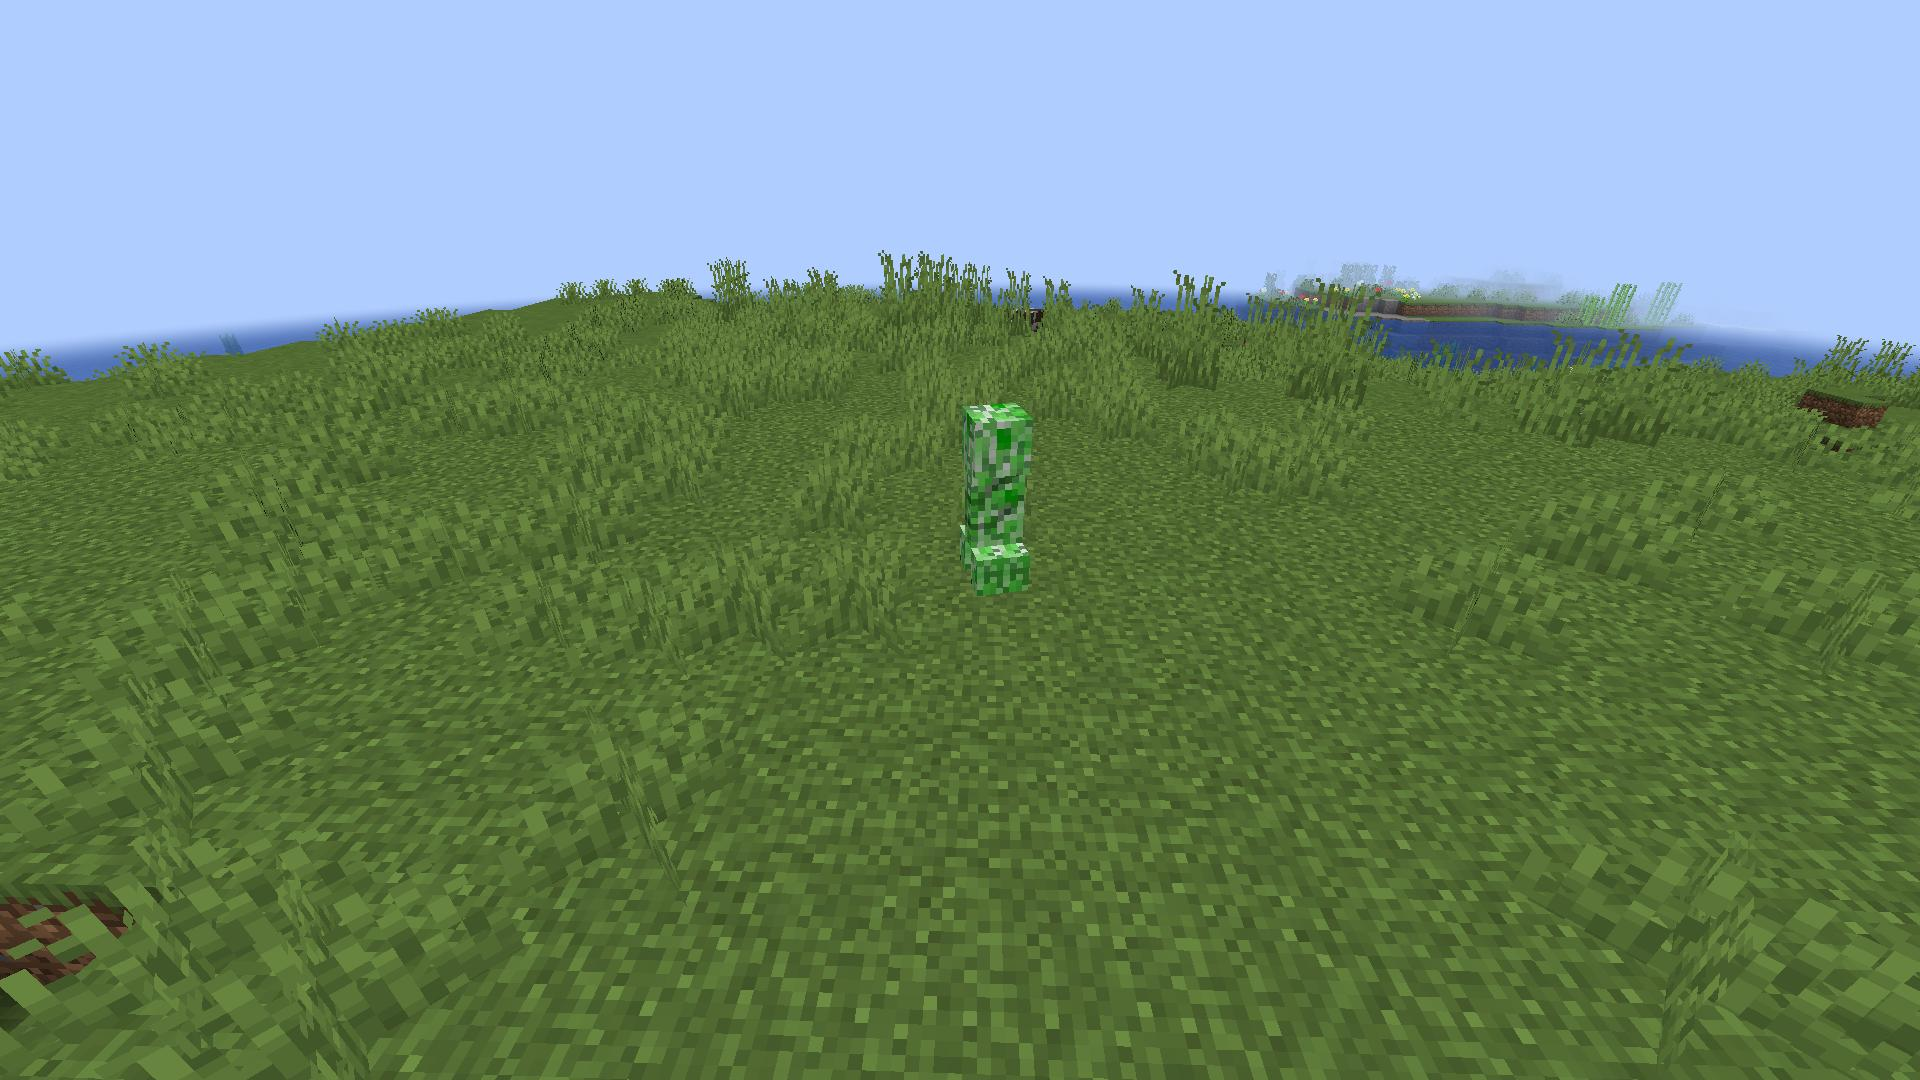creeper: (951, 394, 1044, 608)
